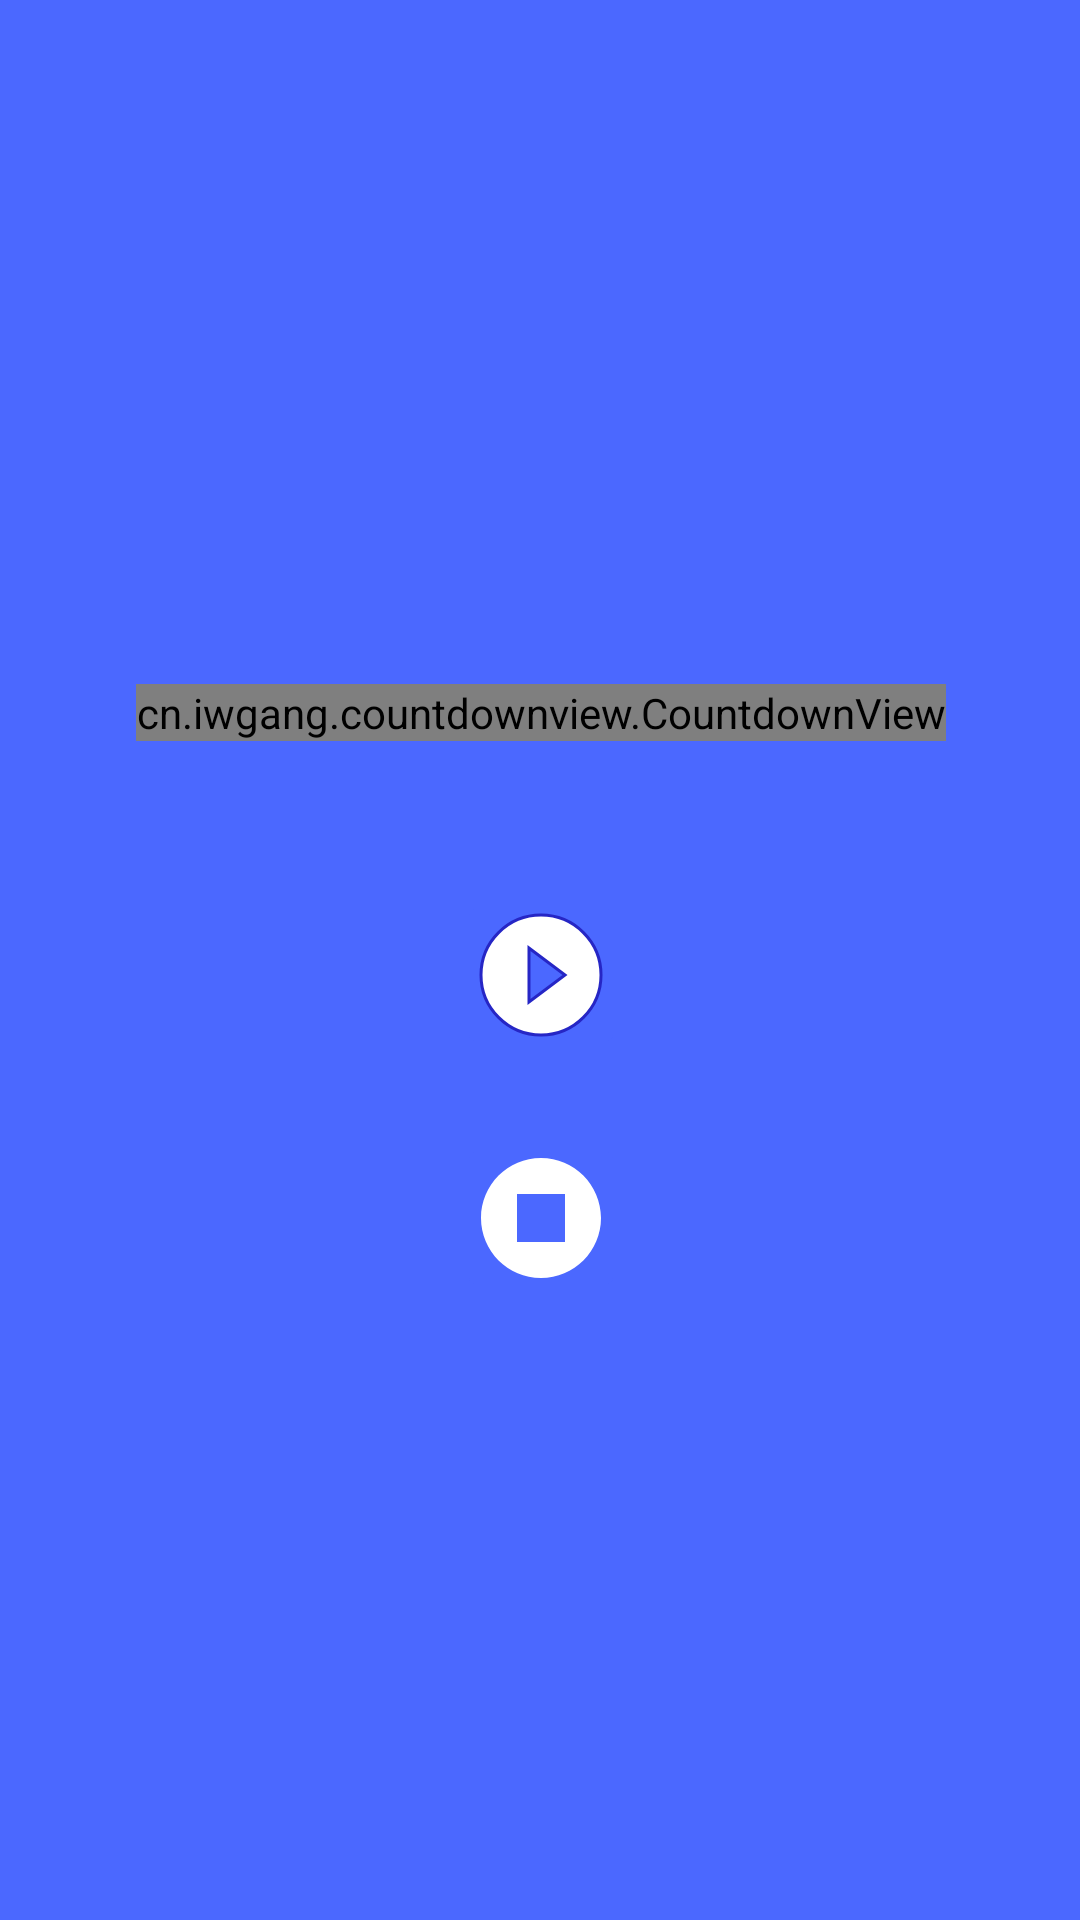

Locate icon controls on the screen. Image size 1080px x 1920px, boxes as (x1, y1, x2, y2).
start: (479, 913, 603, 1037)
stop: (481, 1158, 601, 1278)
